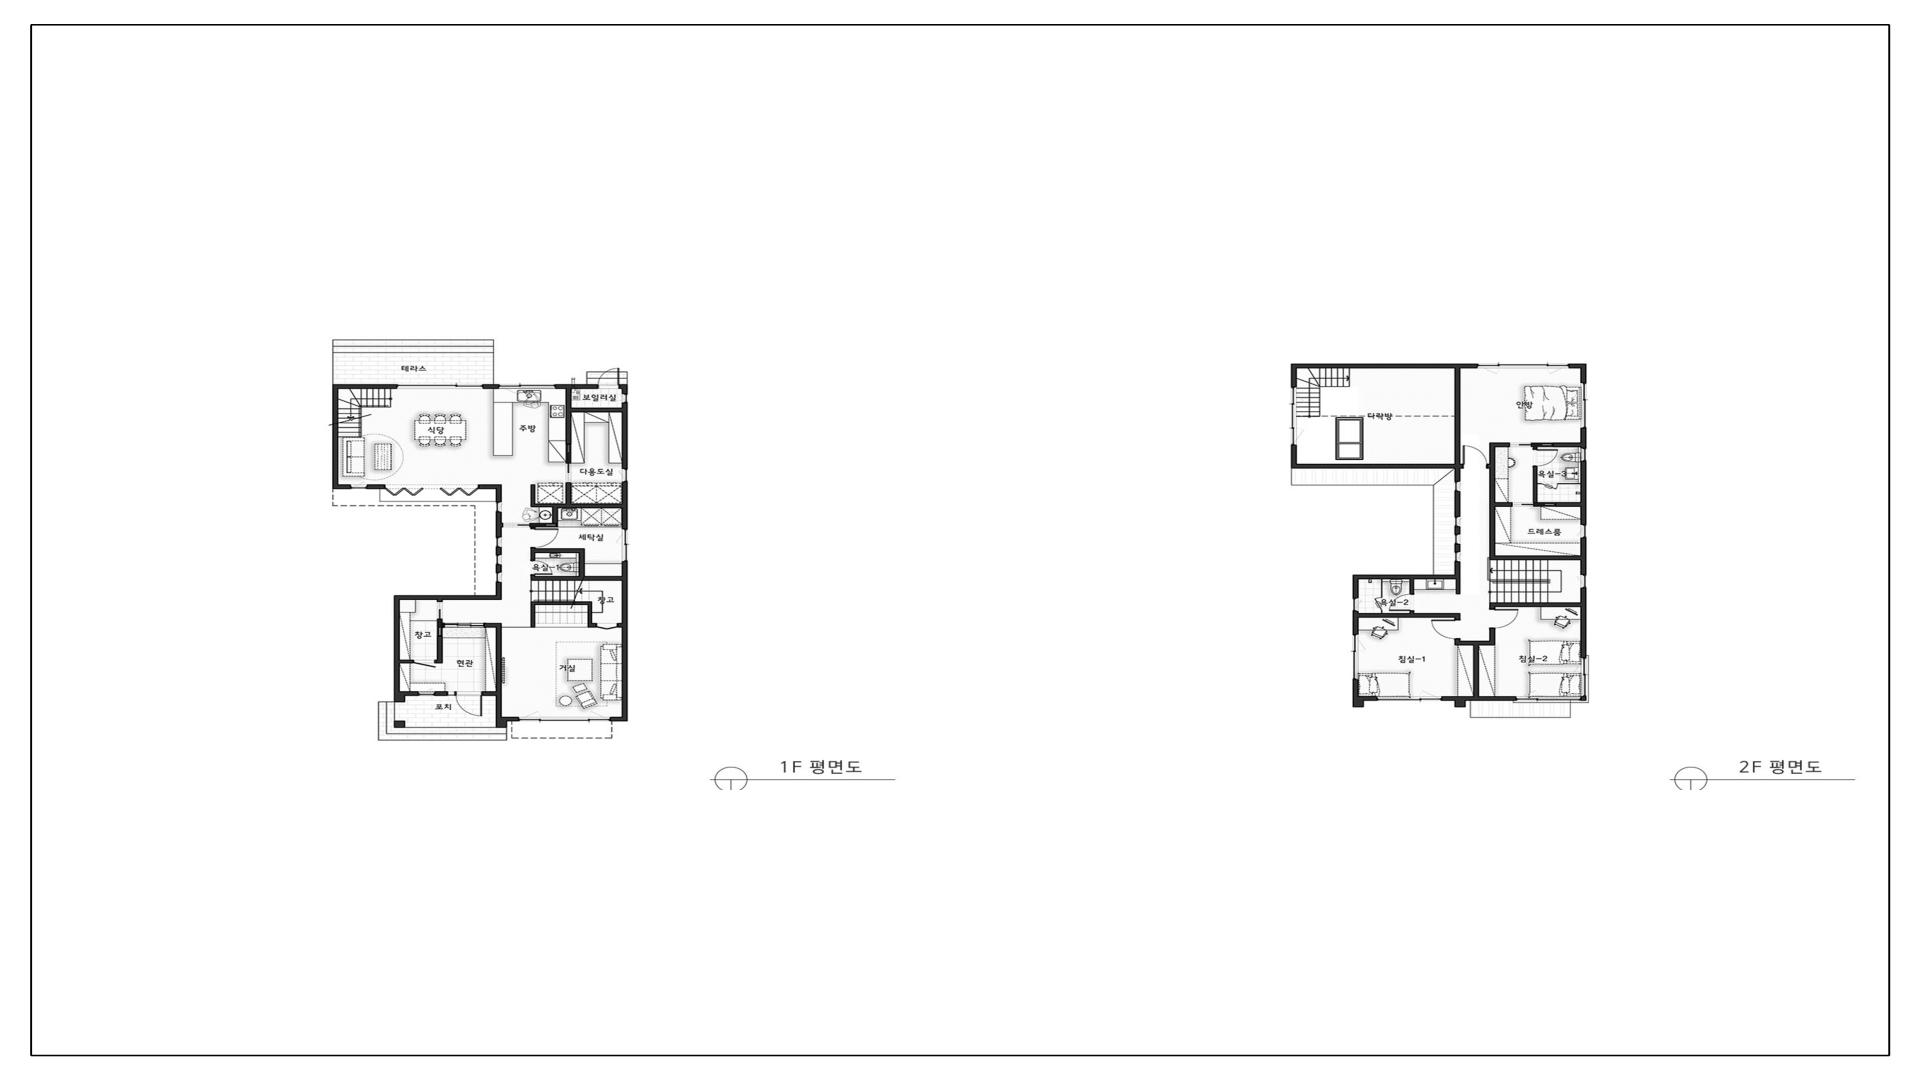door: (448, 691, 482, 716), (1432, 619, 1461, 640), (1490, 608, 1519, 629), (1462, 445, 1487, 469), (531, 527, 558, 548), (1533, 447, 1559, 467), (597, 368, 620, 389), (1389, 593, 1415, 611), (531, 559, 553, 575), (1538, 483, 1581, 491), (1374, 579, 1383, 613), (1510, 442, 1554, 447), (1512, 502, 1556, 507), (444, 623, 485, 628), (413, 660, 435, 668), (596, 623, 618, 630)
wall: (394, 595, 413, 692), (618, 562, 628, 717), (1487, 443, 1495, 556), (1297, 364, 1477, 368), (332, 384, 339, 484), (400, 595, 496, 602), (1297, 464, 1462, 468), (1358, 612, 1460, 618), (1455, 368, 1461, 464), (531, 575, 623, 581), (1580, 588, 1587, 657), (1489, 603, 1581, 608), (1490, 555, 1581, 560), (496, 627, 502, 692), (1359, 575, 1455, 579), (622, 404, 628, 468), (1581, 462, 1587, 524), (1442, 696, 1516, 701), (566, 389, 571, 463), (531, 504, 622, 508), (339, 384, 397, 389), (622, 482, 628, 529), (394, 691, 418, 702), (1474, 645, 1479, 696), (571, 407, 622, 412), (535, 601, 592, 605), (435, 635, 443, 663), (496, 717, 518, 727), (535, 548, 579, 553), (1581, 538, 1587, 574), (1455, 640, 1496, 645), (556, 384, 597, 389), (588, 605, 596, 628), (1533, 467, 1538, 502), (579, 548, 585, 576), (1455, 562, 1460, 594), (496, 512, 502, 537), (1580, 428, 1587, 448), (1291, 364, 1297, 387), (1353, 575, 1359, 598), (1554, 442, 1581, 447), (1291, 446, 1297, 468), (496, 696, 502, 717), (1556, 502, 1581, 507), (1455, 492, 1460, 516), (529, 523, 558, 527), (1353, 696, 1376, 701), (1353, 611, 1358, 634), (566, 482, 571, 504), (1580, 368, 1587, 383), (531, 601, 535, 627), (496, 583, 502, 600), (482, 691, 502, 696), (1353, 680, 1359, 696), (478, 485, 502, 489), (1495, 502, 1513, 507), (619, 384, 628, 394), (552, 508, 558, 523), (332, 484, 350, 489), (485, 623, 502, 628), (368, 484, 385, 489), (483, 384, 499, 389), (531, 484, 535, 504), (1495, 442, 1510, 447), (1489, 629, 1495, 641), (496, 490, 502, 502), (434, 691, 448, 696), (611, 717, 628, 721), (1570, 364, 1587, 368), (1455, 468, 1460, 481), (437, 619, 444, 628), (1410, 579, 1414, 593), (531, 548, 535, 559), (496, 565, 502, 572), (496, 547, 502, 554), (1455, 545, 1461, 551), (1455, 527, 1460, 534), (1581, 697, 1586, 701)
window: (1335, 417, 1364, 460), (385, 484, 478, 496), (1477, 364, 1570, 369), (397, 384, 484, 389), (518, 717, 610, 721), (1291, 386, 1297, 446), (1376, 696, 1442, 701), (1516, 696, 1581, 701), (498, 384, 557, 389), (1581, 383, 1587, 428), (1581, 657, 1587, 697), (1353, 634, 1358, 680), (622, 529, 628, 562), (1580, 574, 1587, 588), (350, 484, 368, 489), (1580, 448, 1586, 462), (1581, 524, 1587, 538), (1353, 598, 1359, 612), (622, 468, 628, 482), (418, 691, 434, 696), (1455, 551, 1461, 562), (1455, 534, 1461, 545), (1455, 481, 1461, 492), (496, 502, 502, 513), (496, 554, 502, 565), (496, 572, 502, 583), (622, 394, 628, 404), (496, 537, 502, 547), (1455, 516, 1460, 527), (437, 628, 443, 636)
